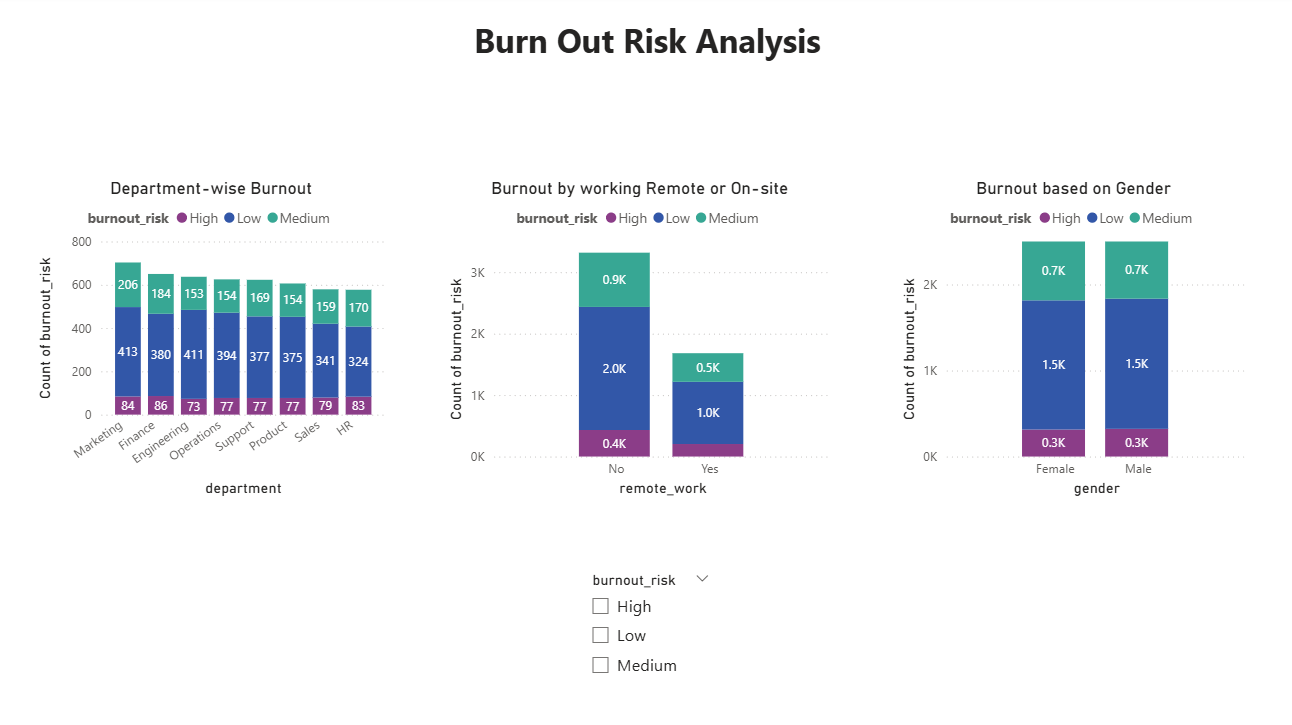

The page's visual inventory and layout, read from the dashboard file:
{"tool":"powerbi","page":{"name":"Burnout Risk Analysis","canvas":[1280,720],"ordinal":1},"visuals":[{"type":"columnChart","title":"Department-wise Burnout","fields":{"Category":["Employee Wellness.department"],"Y":["CountNonNull(Employee Wellness.burnout_risk)"],"Series":["Employee Wellness.burnout_risk"]},"box":[37.9,178.5,351,316.7],"z":0},{"type":"columnChart","title":"Burnout based on Gender","fields":{"Category":["Employee Wellness.gender"],"Y":["CountNonNull(Employee Wellness.burnout_risk)"],"Series":["Employee Wellness.burnout_risk"]},"box":[882.9,178.5,348.5,316.7],"z":1000},{"type":"columnChart","title":"Burnout by working Remote or On-site","fields":{"Category":["Employee Wellness.remote_work"],"Y":["CountNonNull(Employee Wellness.burnout_risk)"],"Series":["Employee Wellness.burnout_risk"]},"box":[440.2,178.5,385.2,316.7],"z":2000},{"type":"slicer","fields":{"Values":["Employee Wellness.burnout_risk"]},"box":[573.5,558.8,139.4,123.5],"z":3000},{"type":"textbox","box":[0,0,1280.3,99],"z":4000}]}

Visuals, with their boxes in screenshot pixels (x1, y1, x2, y2), scaled from the page's 1280x720 canvas onto the 1292x725 screenshot:
"Department-wise Burnout" columnChart: (left=38, top=180, right=393, bottom=499)
"Burnout based on Gender" columnChart: (left=891, top=180, right=1243, bottom=499)
"Burnout by working Remote or On-site" columnChart: (left=444, top=180, right=833, bottom=499)
slicer - Employee Wellness.burnout_risk: (left=579, top=563, right=720, bottom=687)
textbox: (left=0, top=0, right=1291, bottom=100)
